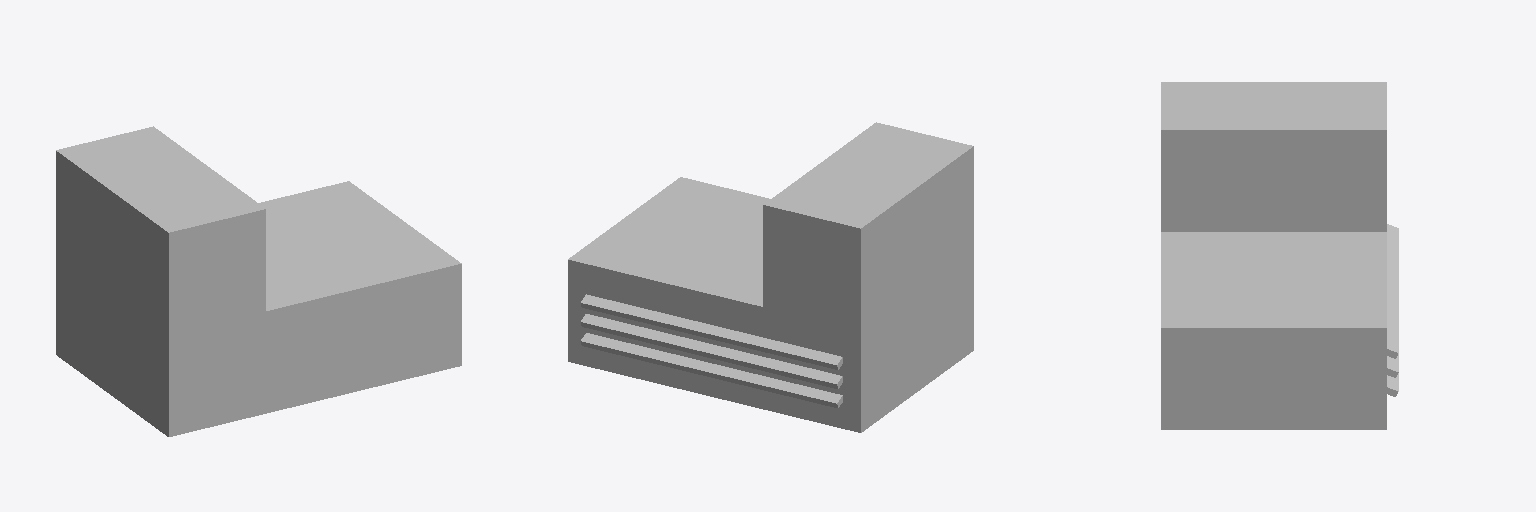
File: memory_formatter_mirrored.obj
3 renders of one model, left to right at view 1: azimuth 30°, elevation 25°; view 2: azimuth 150°, elevation 25°; view 3: azimuth 270°, elevation 25°, orthographic.
Parts seen in each view (by area): view 1: cube; view 2: cube; view 3: cube.
Part boxes in pixels (x1,y1,x2,y2): cube: (56,126,461,436); cube: (568,122,973,432); cube: (1161,82,1398,429).
Bounding box in the file's own units: 3 × 2 × 2.1.